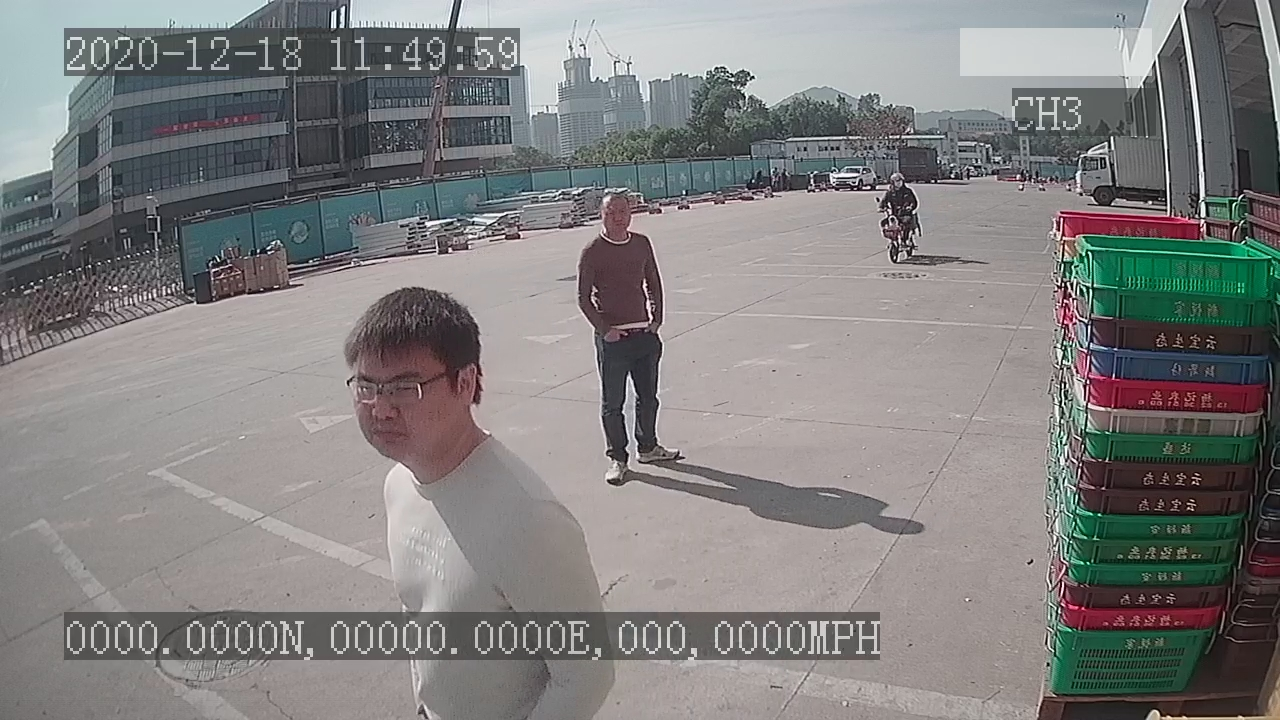person: (574, 185, 684, 490)
